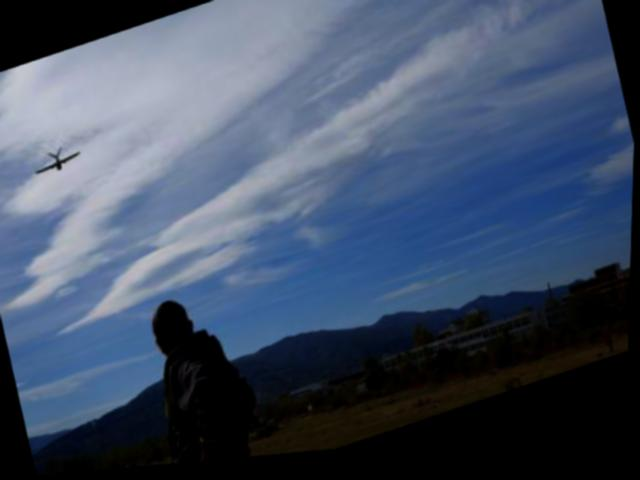uav: (24, 130, 96, 196)
